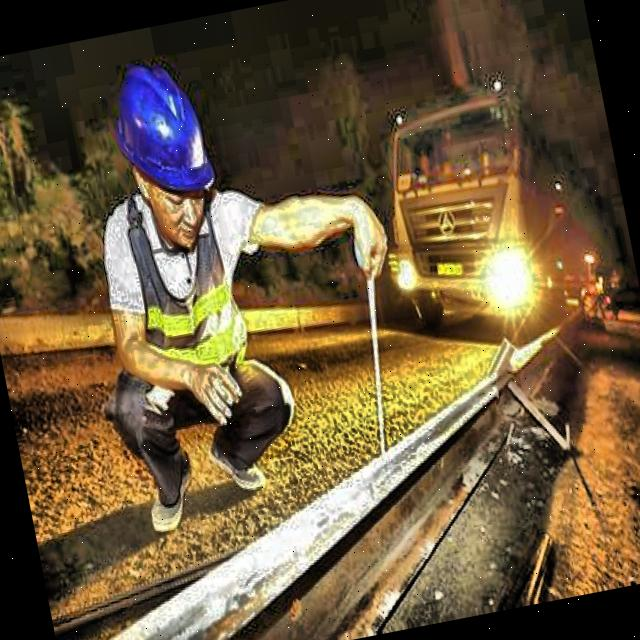helmet: (94, 48, 237, 272)
